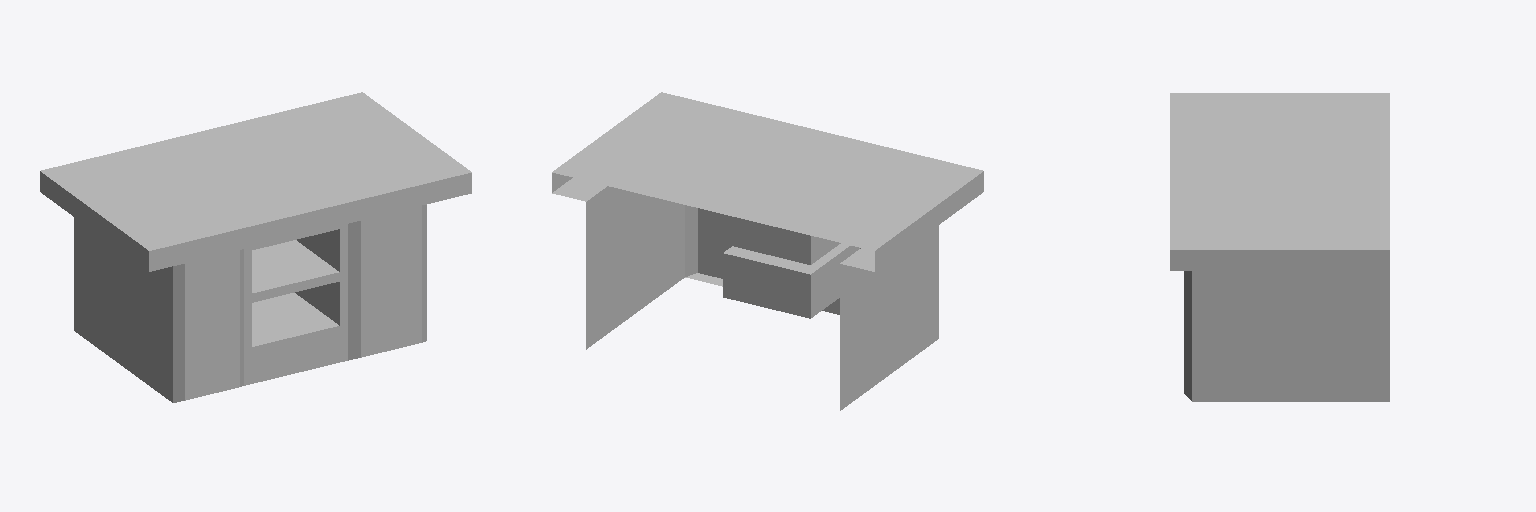
File: desk.obj
The picture shows the model from 3 angles: view 1: azimuth 30°, elevation 25°; view 2: azimuth 150°, elevation 25°; view 3: azimuth 270°, elevation 25°; orthographic projection.
Visible parts, largest first — view 1: polySurface299 polySurface264; view 2: polySurface299 polySurface264; view 3: polySurface299 polySurface264.
Part boxes in pixels (bbox=[...]): polySurface299 polySurface264: bbox=[40, 92, 471, 402]; polySurface299 polySurface264: bbox=[552, 92, 983, 410]; polySurface299 polySurface264: bbox=[1170, 93, 1389, 401].
Size of the model in its own units: 11.89 by 5.94 by 7.